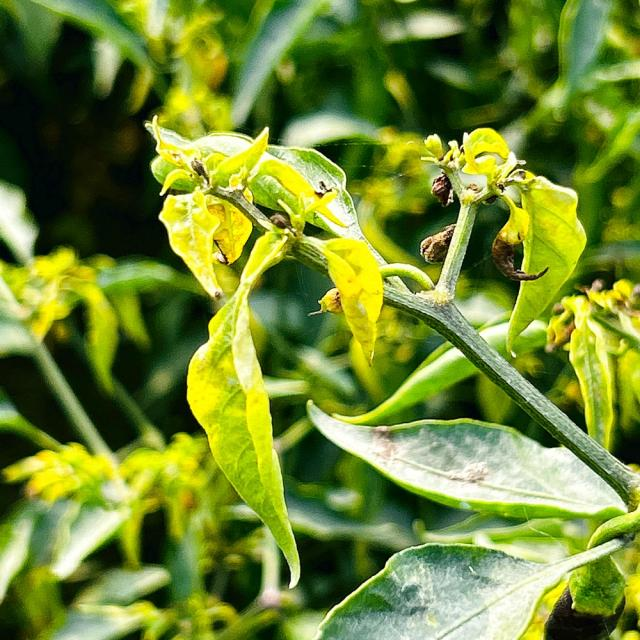Chilli_Leaf_Curl: (143, 115, 638, 636), (143, 115, 390, 588), (304, 397, 629, 521), (418, 125, 588, 356), (313, 536, 628, 638), (143, 114, 272, 299), (498, 171, 588, 356), (320, 236, 384, 366)
